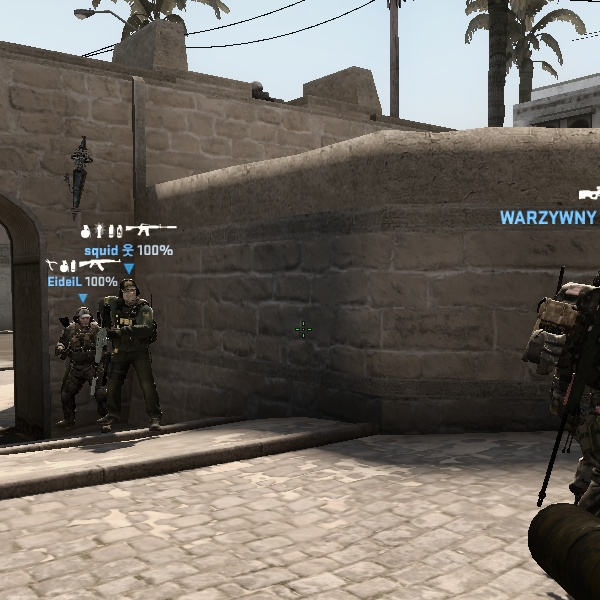ct_body: (88, 274, 170, 426), (50, 304, 104, 435)
ct_head: (115, 275, 147, 308), (72, 303, 98, 333)
